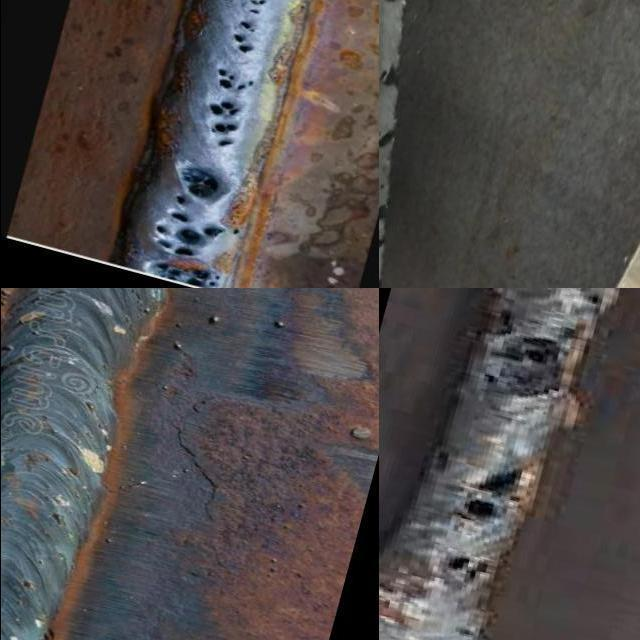defect: (147, 160, 244, 259), (452, 461, 527, 529), (470, 333, 566, 366), (151, 260, 221, 288), (474, 368, 542, 392), (439, 554, 495, 583), (228, 17, 257, 58), (213, 64, 257, 91), (378, 56, 400, 90), (203, 99, 241, 116), (585, 290, 610, 311), (207, 122, 239, 136), (454, 626, 482, 640), (378, 128, 394, 151), (247, 0, 268, 15), (378, 201, 388, 223), (216, 139, 234, 148), (378, 267, 385, 288), (378, 236, 386, 252), (378, 179, 386, 190)
